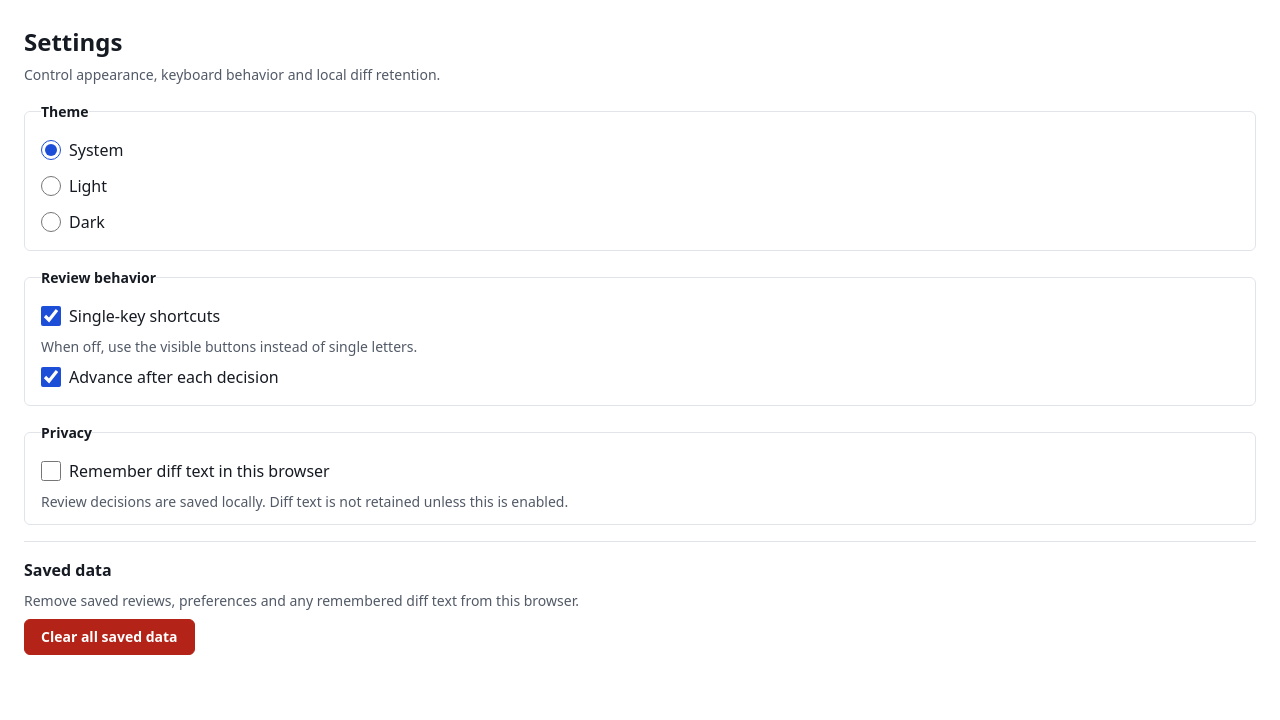
Scenario: SettingsDialog clearing saved data › SETTINGS-CLEAR-CANCEL backs out of the confirmation without clearing
Click the button "Clear all saved data": click(109, 637) [24,619,195,655]
(page scrolled)
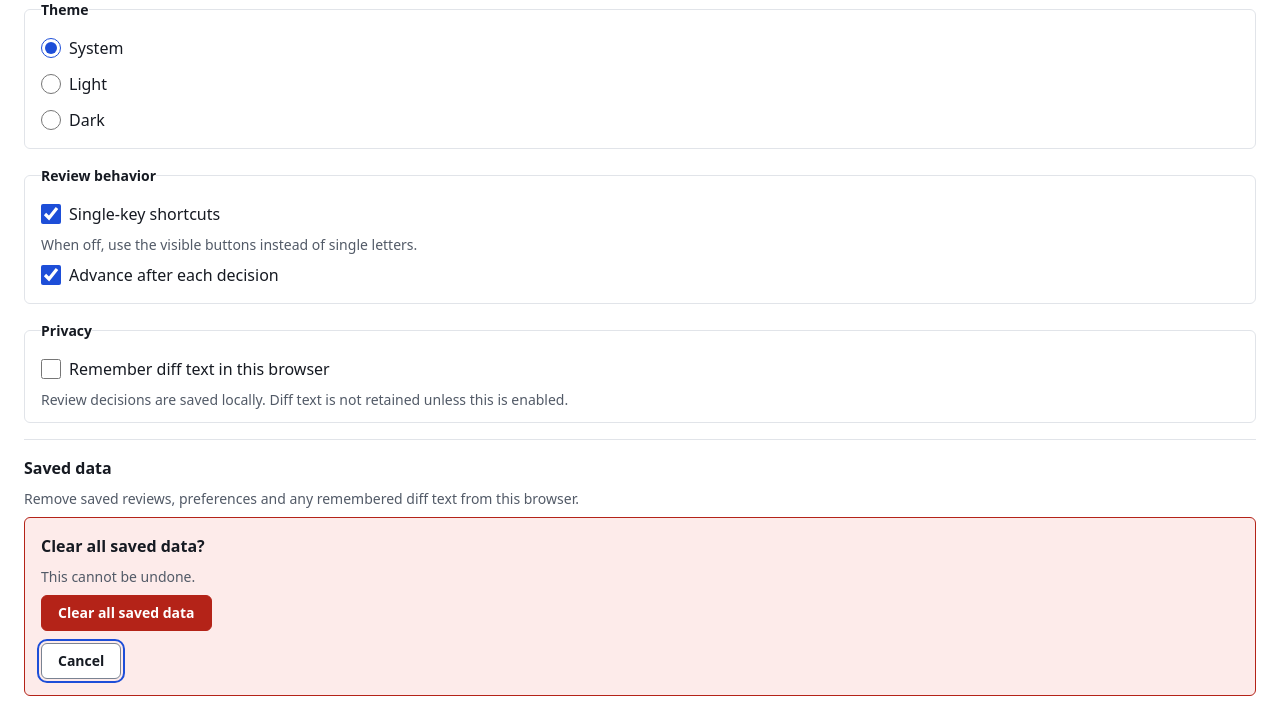
Click the button "Cancel": click(81, 661) [41,643,121,679]
(page scrolled)
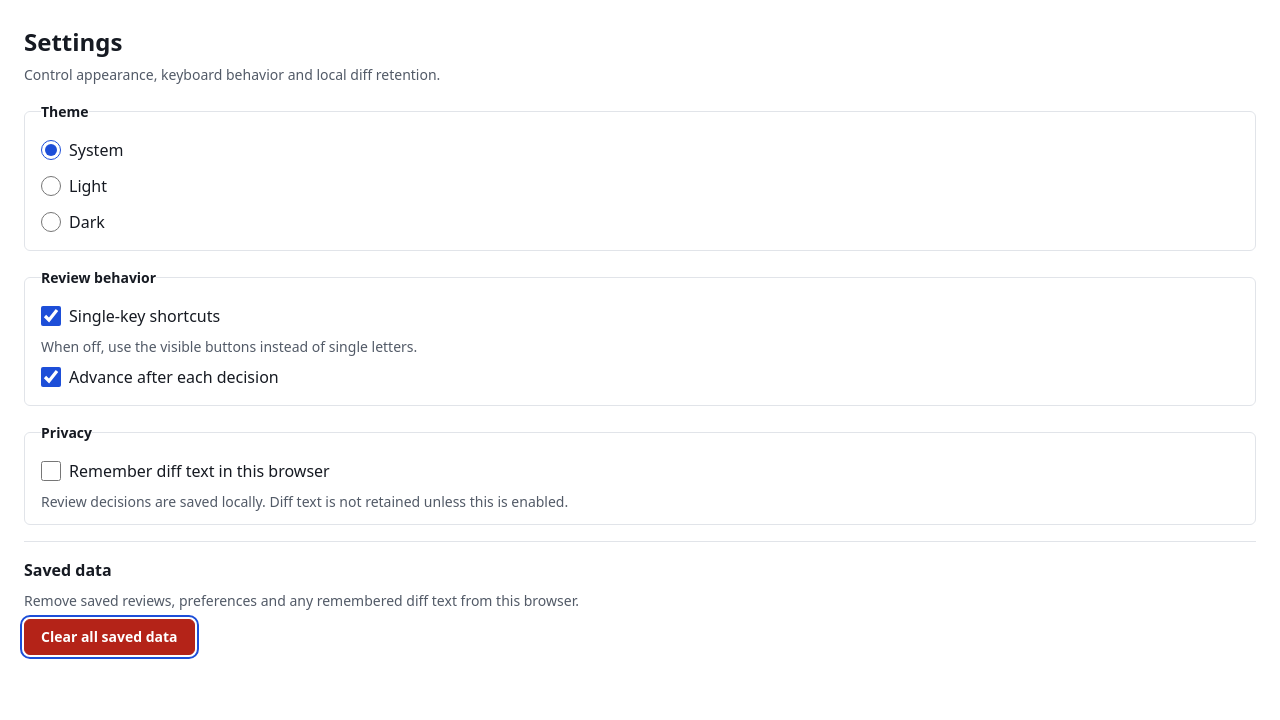
Expected: the dialog is gone
